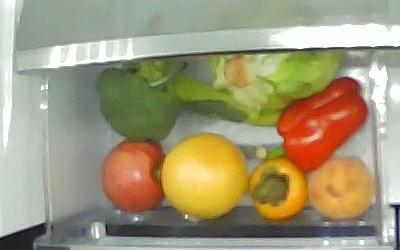apple: (100, 138, 167, 216)
broccoli: (97, 56, 186, 141)
cucumber: (157, 71, 312, 127)
grapefruit: (162, 132, 247, 217)
lettuce: (207, 47, 345, 125)
paprika: (256, 77, 367, 170)
peach: (308, 156, 374, 218)
persimmon: (247, 157, 306, 220)
